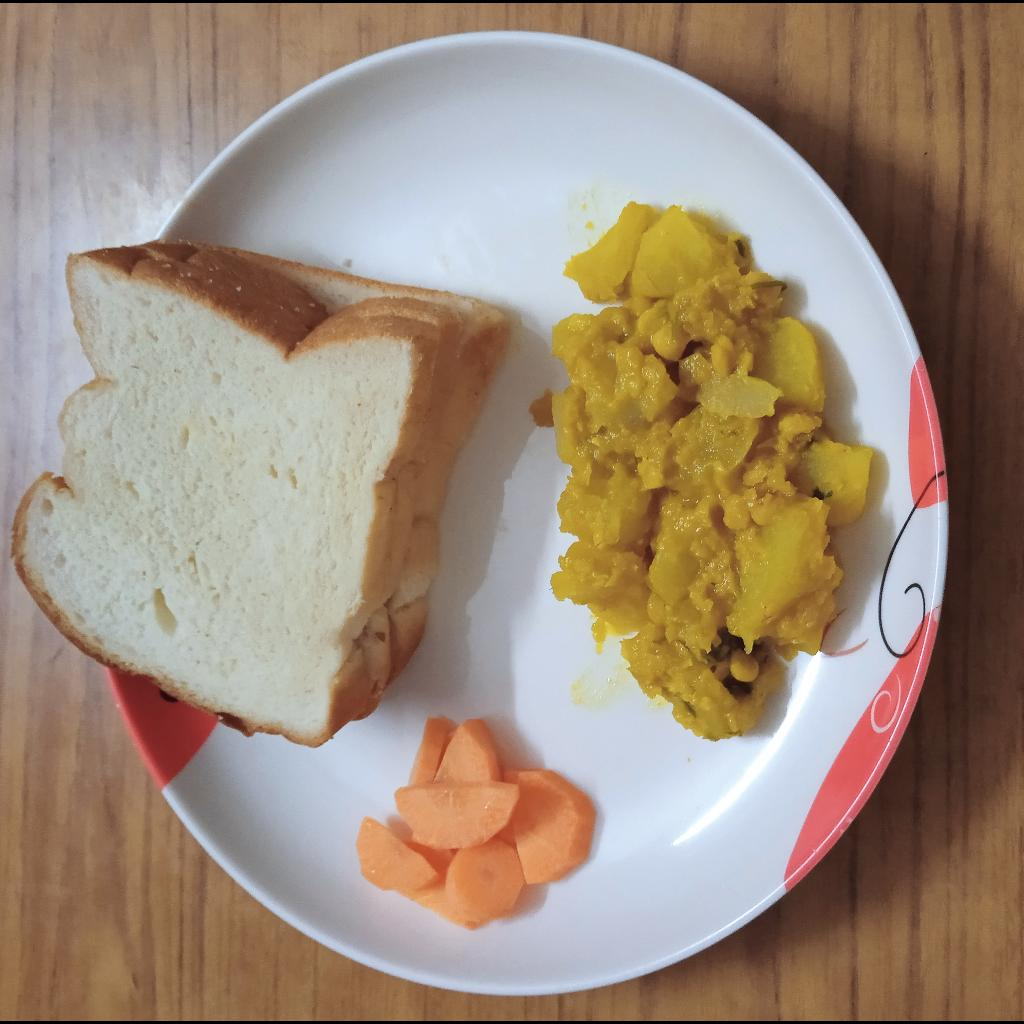bread: (10, 237, 505, 748)
carrot: (354, 716, 596, 932)
lau: (533, 202, 876, 742)
